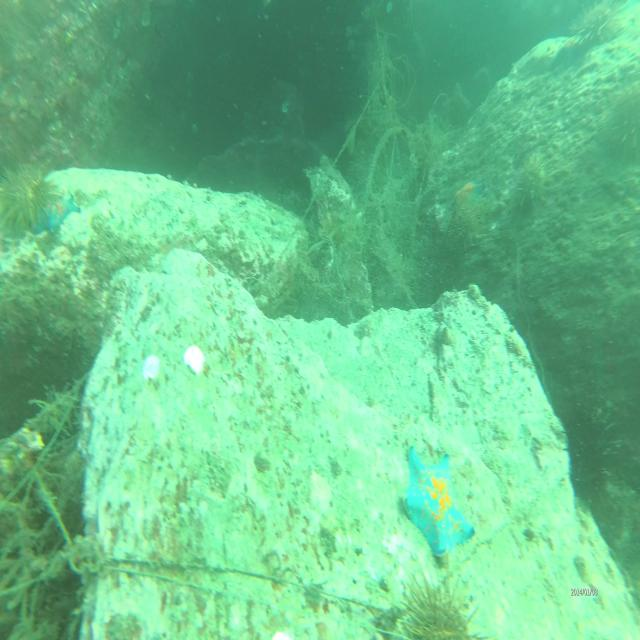echinus: (605, 84, 640, 159), (510, 153, 548, 212), (578, 4, 624, 46)
starfish: (402, 443, 474, 561), (1, 159, 54, 234), (30, 193, 80, 237), (552, 32, 586, 69), (452, 179, 482, 214)
